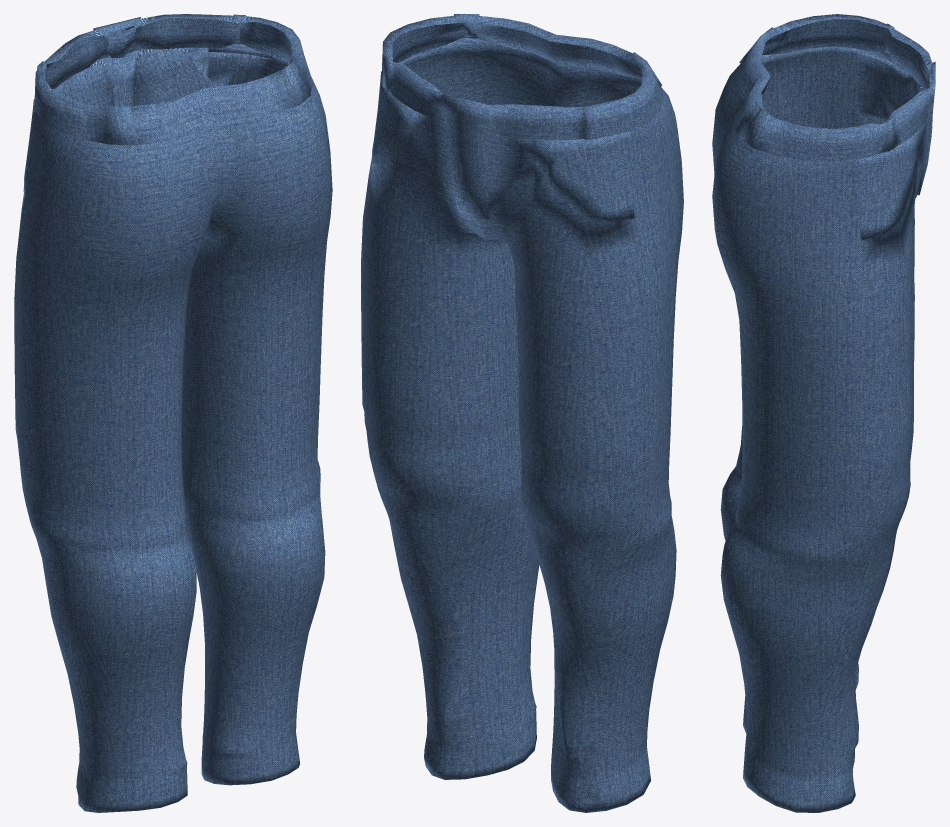
Rendered from Jeans.fbx.
The picture shows the model from 3 angles, left to right: view 1: azimuth 30°, elevation 25°; view 2: azimuth 150°, elevation 25°; view 3: azimuth 270°, elevation 25°; orthographic projection. The views are drawn at different scales.
Parts seen in each view (by area): view 1: Jeans - Outside, Jeans - Inside; view 2: Jeans - Outside, Jeans - Inside; view 3: Jeans - Outside, Jeans - Inside.
Part boxes in pixels (x1=…): Jeans - Outside: x1=14, y1=14, x2=332, y2=812; Jeans - Inside: x1=45, y1=18, x2=291, y2=106; Jeans - Outside: x1=361, y1=14, x2=683, y2=812; Jeans - Inside: x1=392, y1=22, x2=642, y2=107; Jeans - Outside: x1=712, y1=14, x2=935, y2=812; Jeans - Inside: x1=761, y1=19, x2=930, y2=128.
Size of the model in its own units: 1.7 by 4.05 by 1.18.
1 material, 1 textured.
